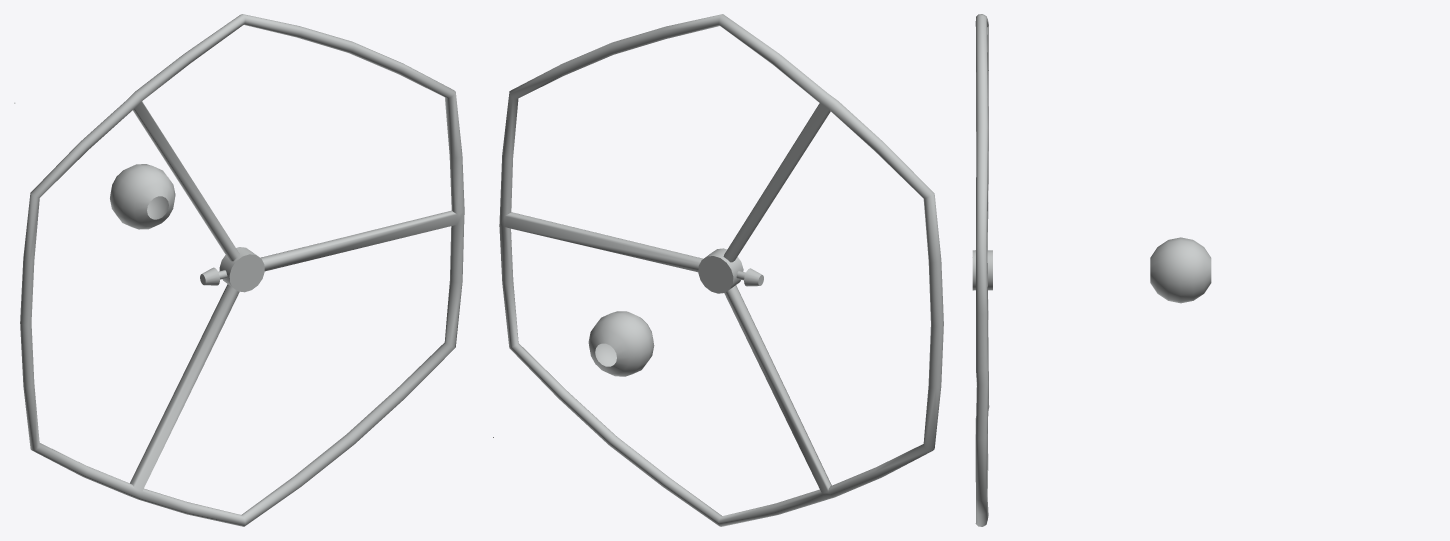
Rendered from MeshDeskLamp_8_0_GeomSubset_1.obj.
The picture shows the model from 3 angles, left to right: view 1: azimuth 30°, elevation 25°; view 2: azimuth 150°, elevation 25°; view 3: azimuth 270°, elevation 25°; orthographic projection.
Parts seen in each view (by area): view 1: MeshDeskLamp_8_0_GeomSubset_1; view 2: MeshDeskLamp_8_0_GeomSubset_1; view 3: MeshDeskLamp_8_0_GeomSubset_1.
Boxes of the visible parts, x1,y1,x2,y2 form: MeshDeskLamp_8_0_GeomSubset_1: (14, 14, 464, 526); MeshDeskLamp_8_0_GeomSubset_1: (493, 14, 943, 526); MeshDeskLamp_8_0_GeomSubset_1: (972, 14, 1211, 526).
Bounding box in the file's own units: 0.3069 × 0.3395 × 0.2795.
